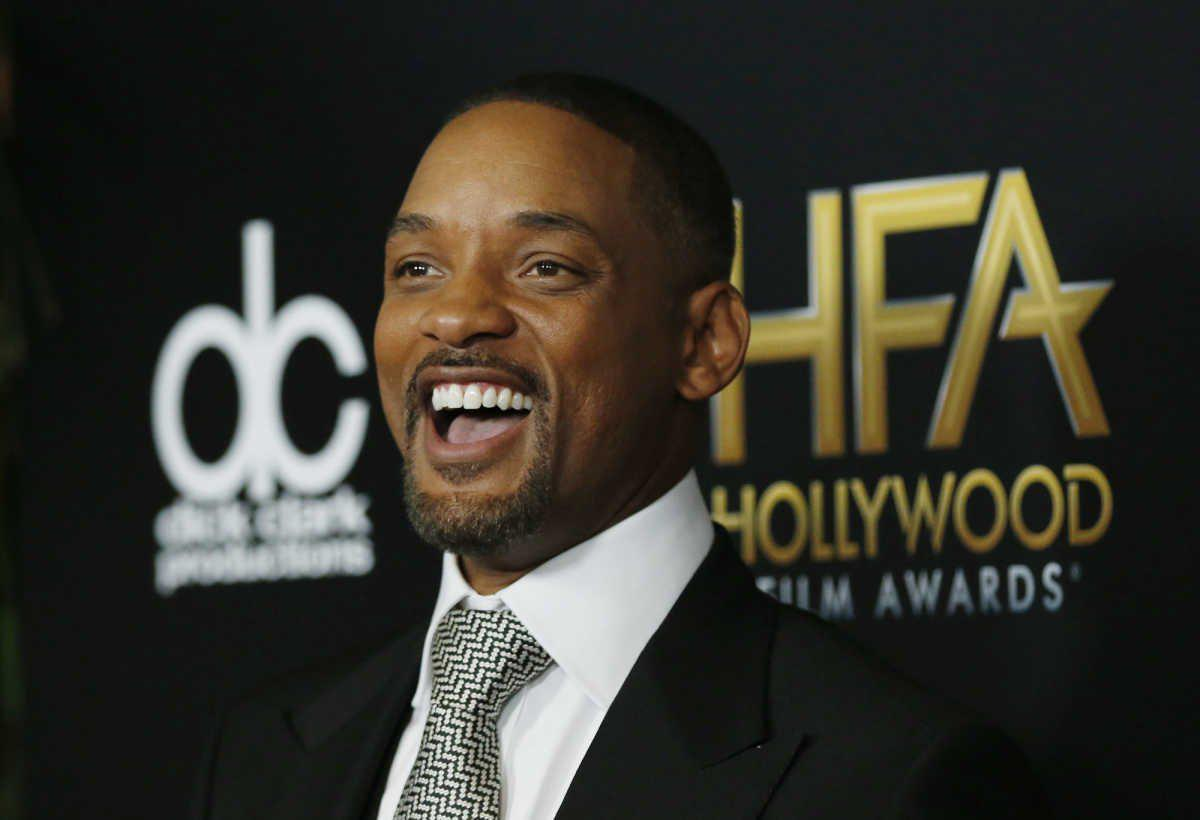Sober: (391, 132, 637, 507)
